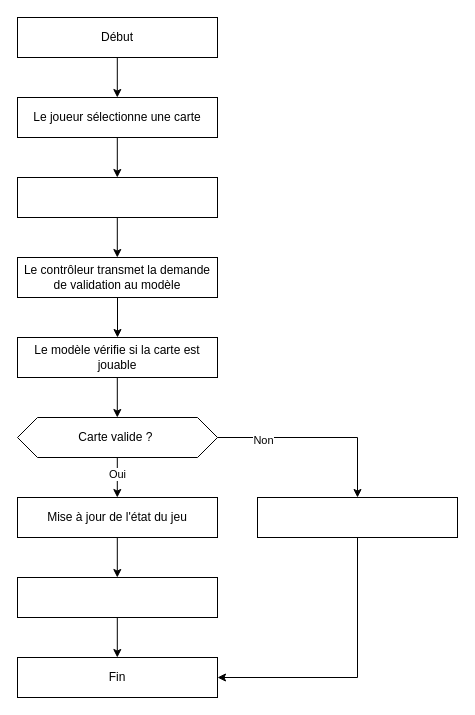
Some shapes in this 475 by 715 pixel diagram are drawn without their labels. Each missing label, with the centre of its shape:
"Envoi de l'information au contrôleur" belongs at [117,197].
"Informer la GUI que la carte est invalide" belongs at [357,517].
"Mise à jour de l' interface" belongs at [117,597].
